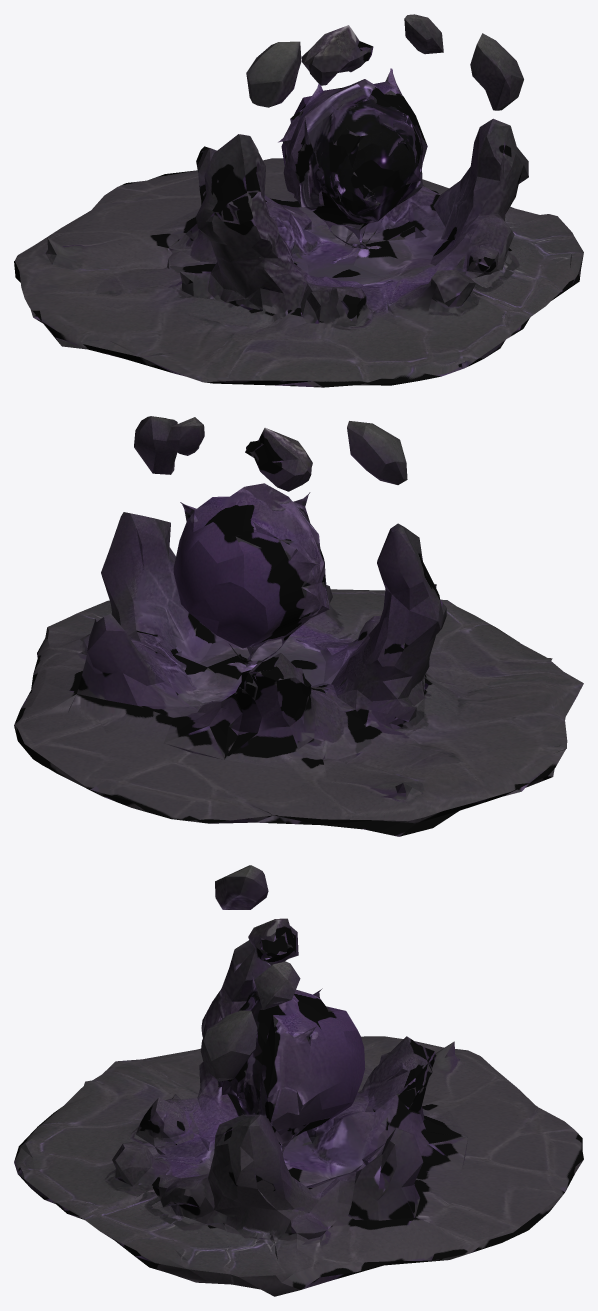
Rendered from core_void_shard.glb.
3 renders of one model, top to bottom at view 1: azimuth 30°, elevation 25°; view 2: azimuth 150°, elevation 25°; view 3: azimuth 270°, elevation 25°, orthographic. The views are drawn at different scales.
Visible parts, largest first — view 1: output_unwrapped; view 2: output_unwrapped; view 3: output_unwrapped.
Part boxes in pixels (x1,y1,x2,y2): output_unwrapped: (14,14,583,387); output_unwrapped: (14,416,583,836); output_unwrapped: (14,865,583,1296).
Size of the model in its own units: 1.83 by 0.9852 by 1.78.
1 material, 1 textured.
